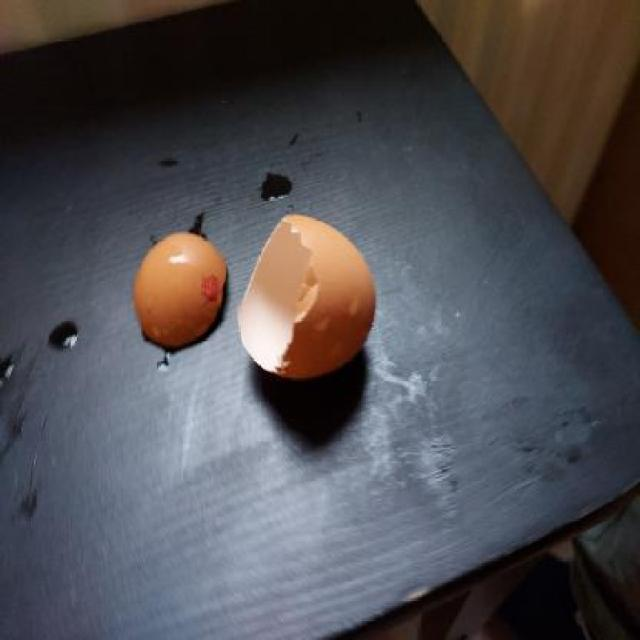biodegradable: (236, 213, 378, 382), (133, 232, 227, 350)
